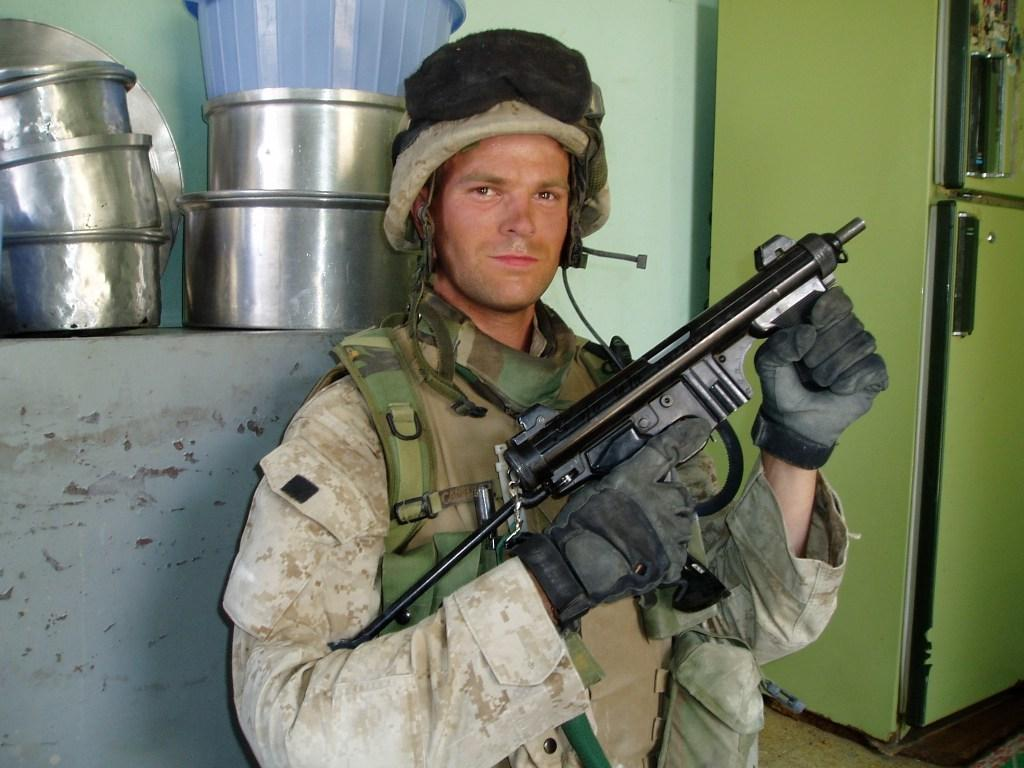Rifle: (293, 209, 883, 678)
